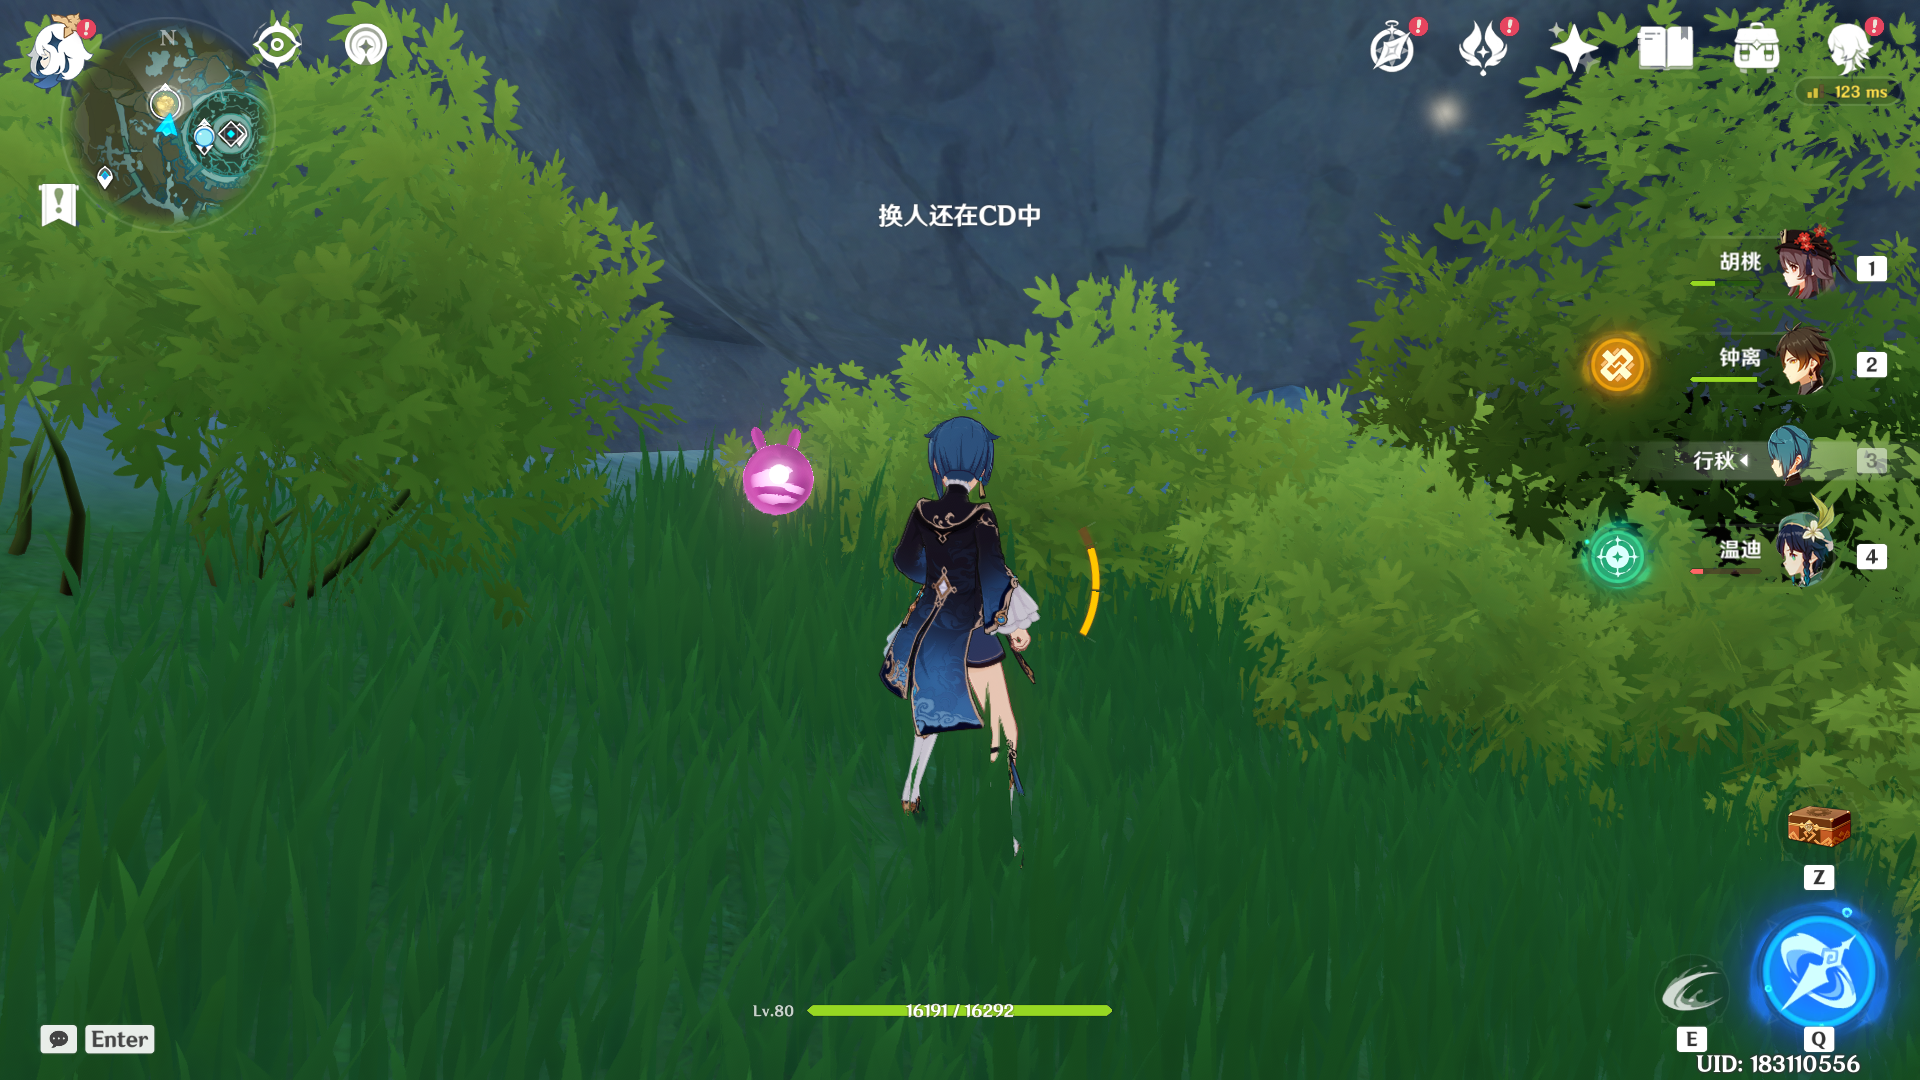character: (829, 388, 1118, 873)
